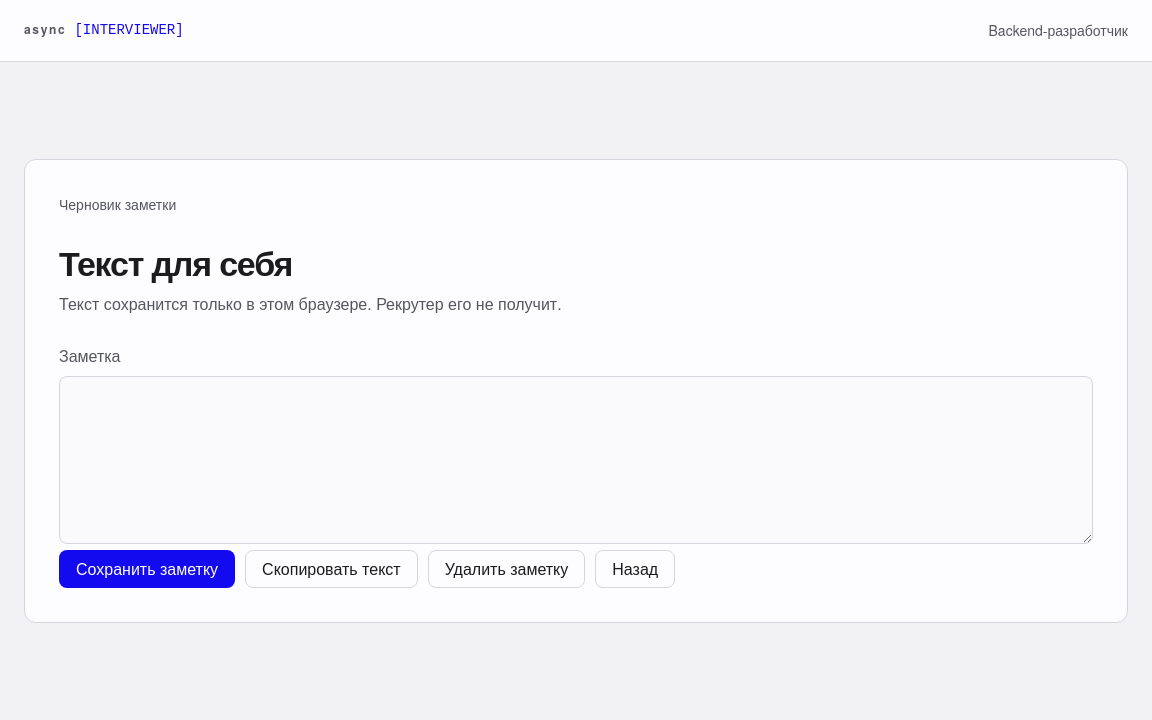
Scenario: RequestPage › does not claim the text was copied when clipboard write fails
Type "Скопировать это" into the text box. click: point(576, 460)
box: [59,376,1093,544]
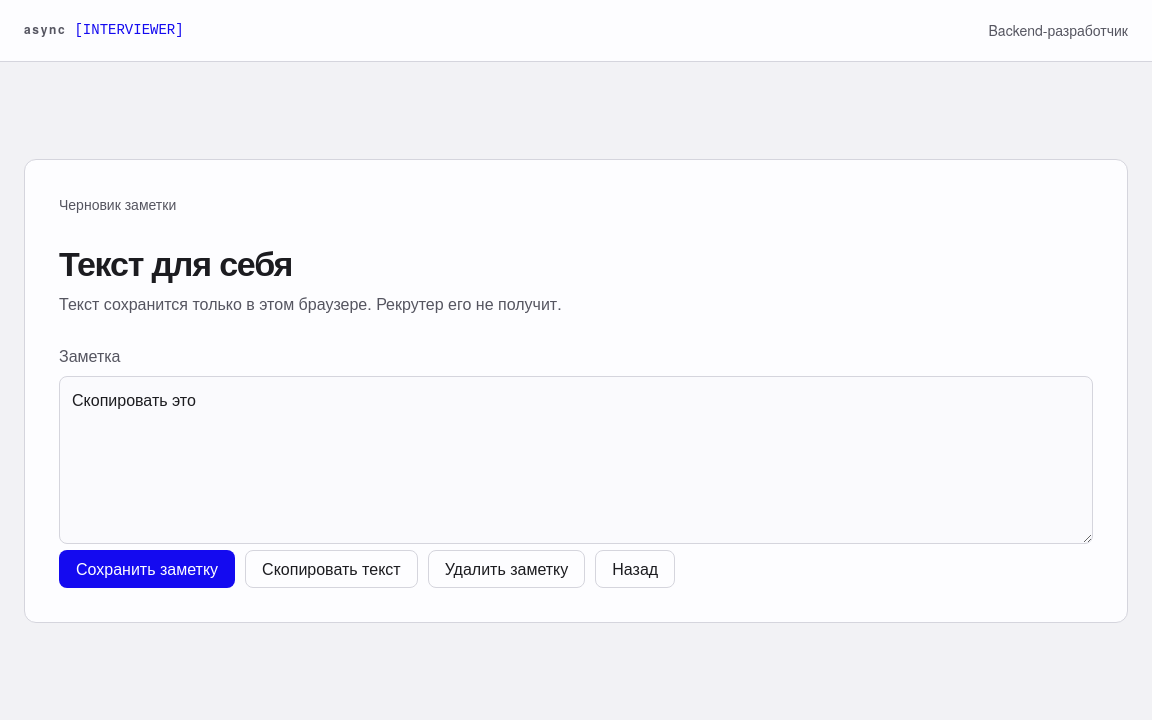
Click the button "Скопировать текст". click: point(331, 568)
box: [245,550,418,588]
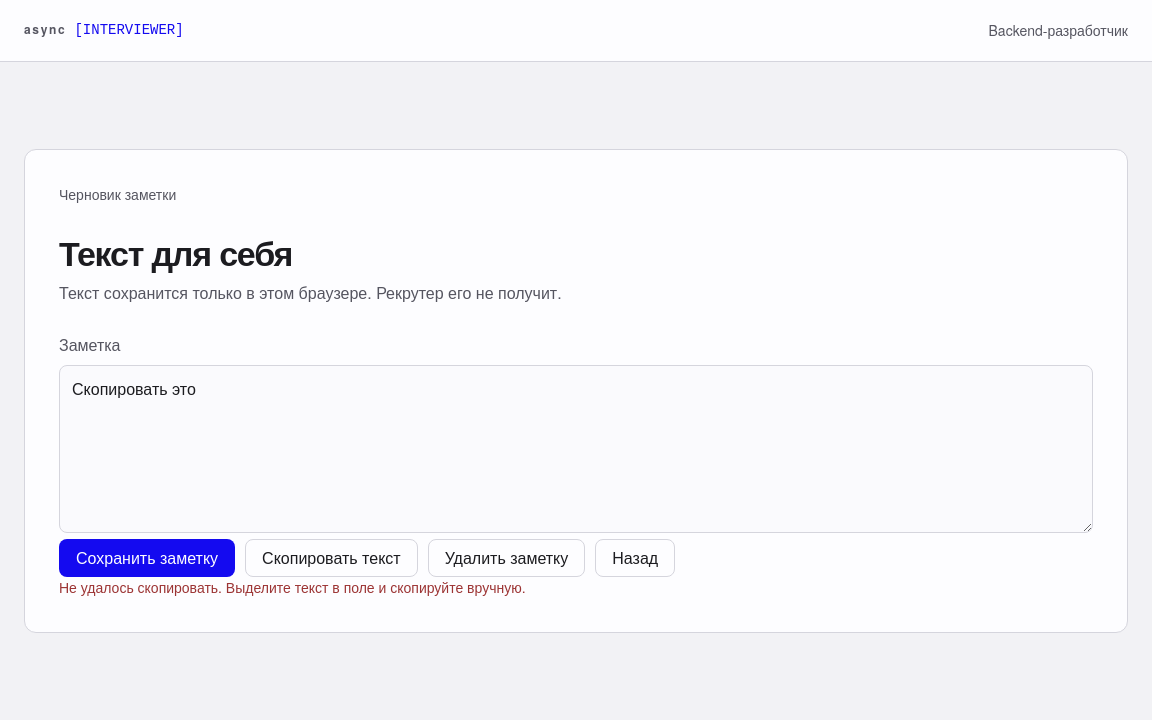
Check: the text "Не удалось скопировать. Выделите текст в поле и скопируйте вручную." is shown, box [59,577,526,597]
